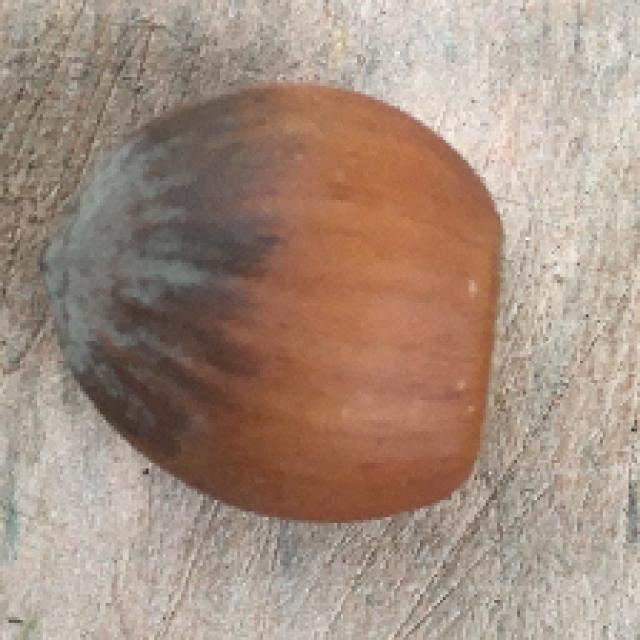damagedHazelnut: (42, 76, 506, 548)
